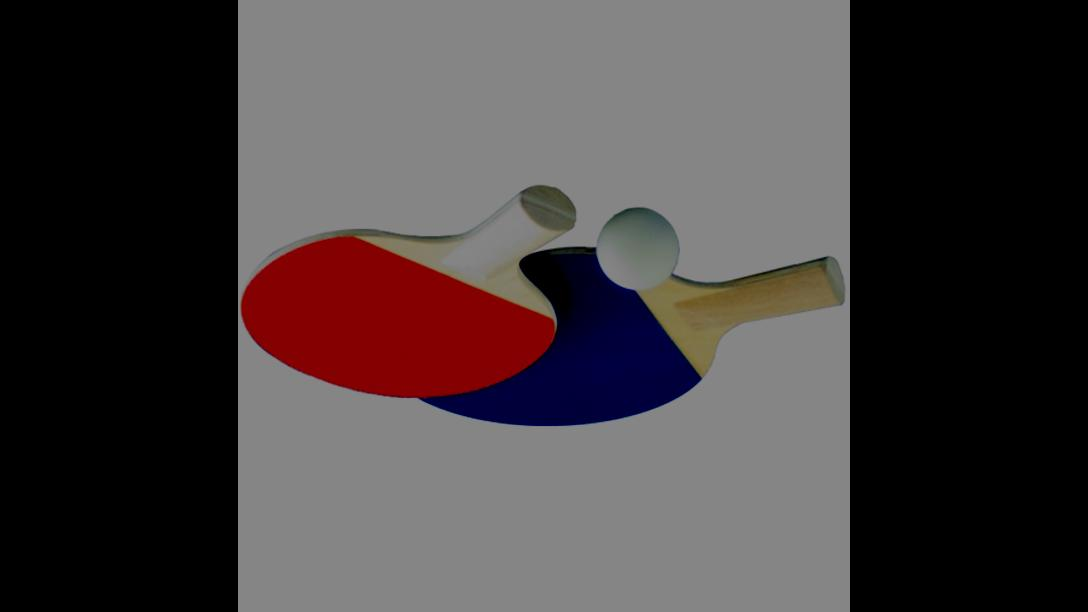Table-Tennis-Ball: (598, 208, 676, 292)
